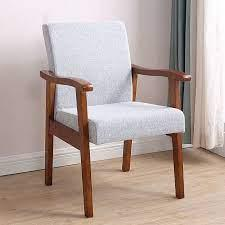chair: (25, 11, 200, 208)
